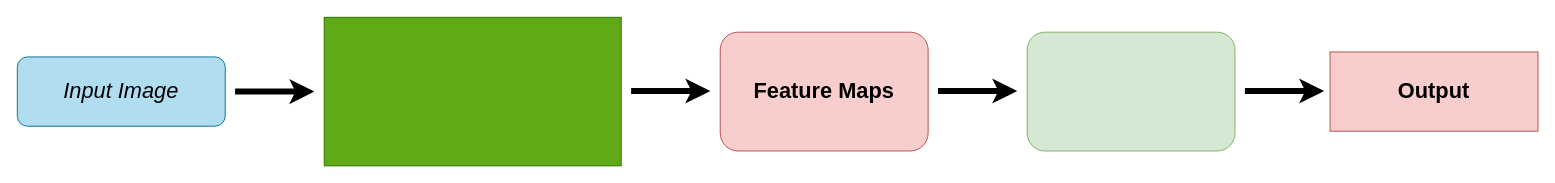
Some shapes in this 1555 by 183 pixel diagram are drawn without their labels. The shapes that lost their labels are listed below. From the top down, each one's centre as x and y in pixels, then its label:
At point (472, 91): "Backbone Model [Feature Extractor]".
At point (1130, 91): "Classifier".
